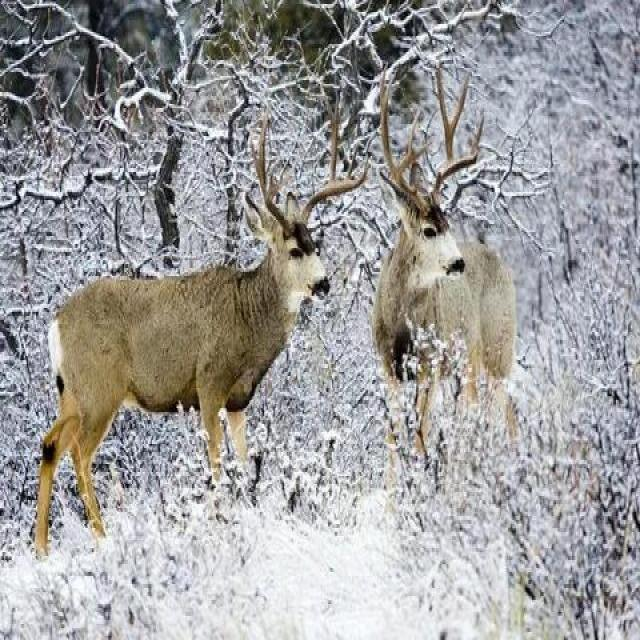deer: (0, 107, 301, 564), (337, 121, 580, 548)
